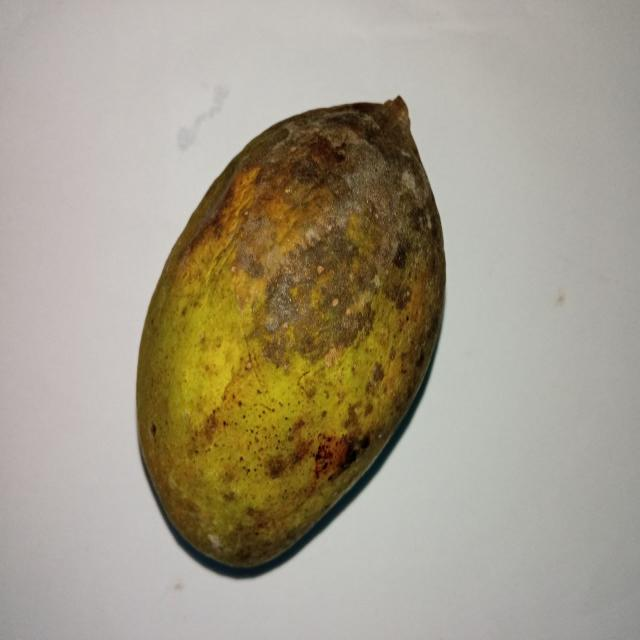rotten_mango: (134, 95, 442, 568)
